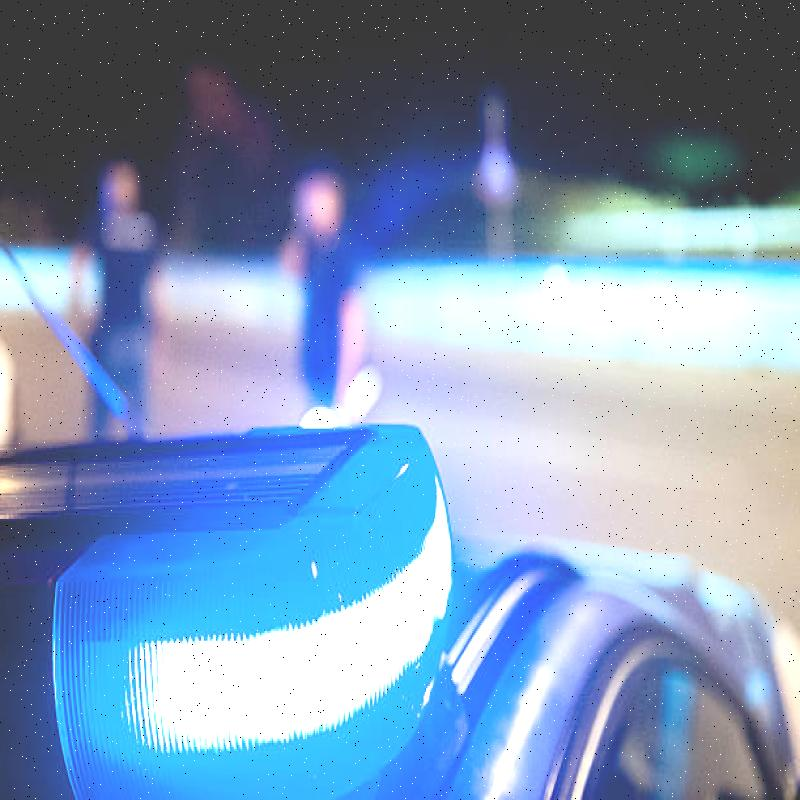AmbulanceSiren: (0, 370, 501, 796)
